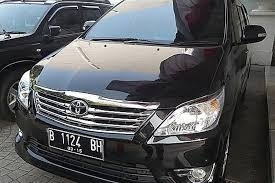plate: (49, 128, 104, 159)
